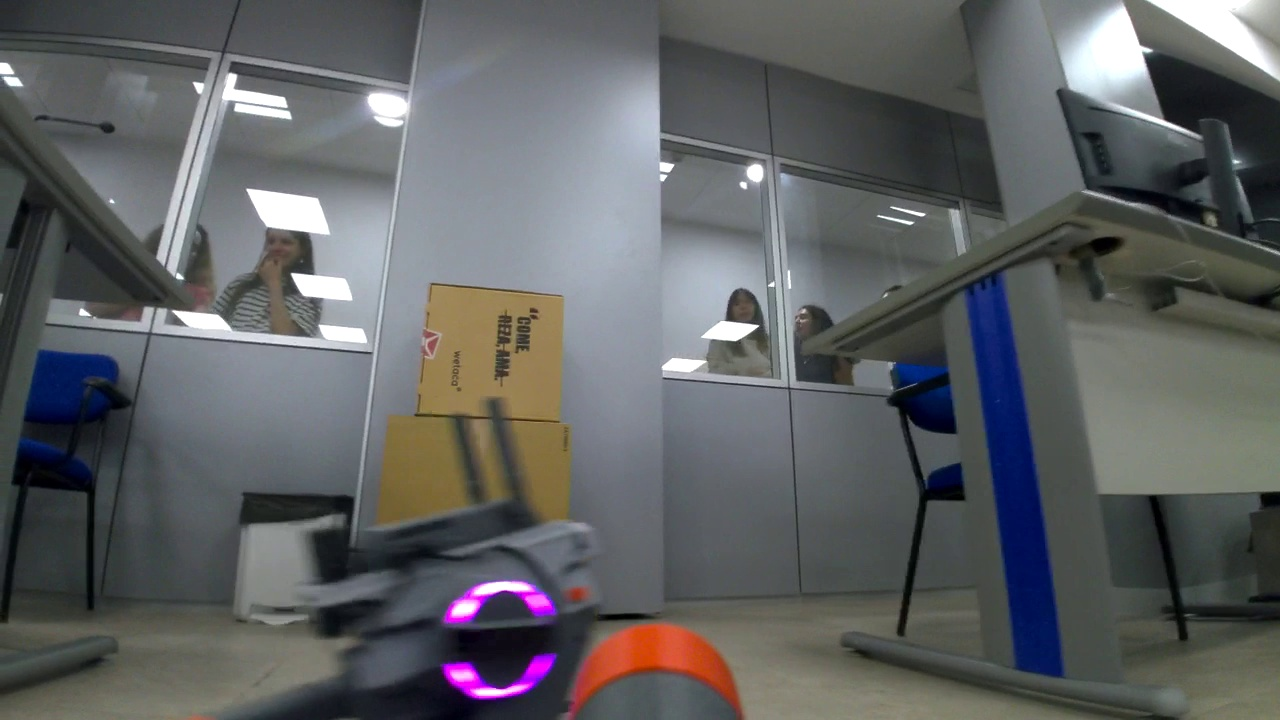robot: (228, 495, 601, 708)
